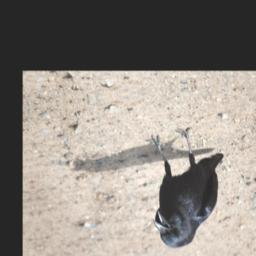Crow: (141, 123, 234, 251)
